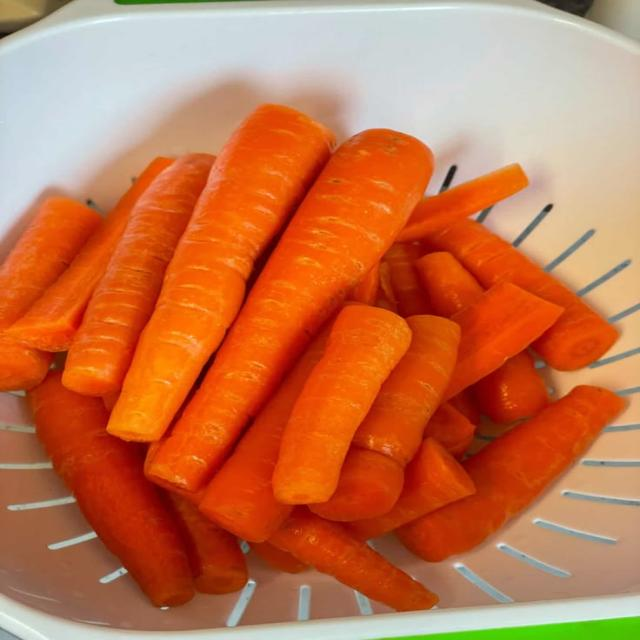carrot: (152, 130, 433, 489), (108, 104, 334, 441), (397, 386, 624, 561), (27, 371, 193, 606), (63, 154, 214, 395), (12, 157, 173, 351), (310, 316, 459, 521), (200, 321, 331, 542), (428, 220, 617, 370), (273, 306, 412, 504), (0, 198, 101, 391), (269, 507, 438, 611), (352, 316, 460, 467), (444, 282, 564, 400), (346, 438, 475, 540), (399, 164, 528, 242), (167, 492, 247, 593), (309, 447, 404, 521), (474, 351, 549, 424), (474, 351, 548, 423), (415, 252, 484, 317), (138, 442, 204, 505), (383, 243, 432, 317), (425, 402, 475, 459), (250, 543, 309, 573), (347, 262, 379, 305), (448, 388, 481, 426), (375, 262, 397, 312), (102, 391, 119, 412)
